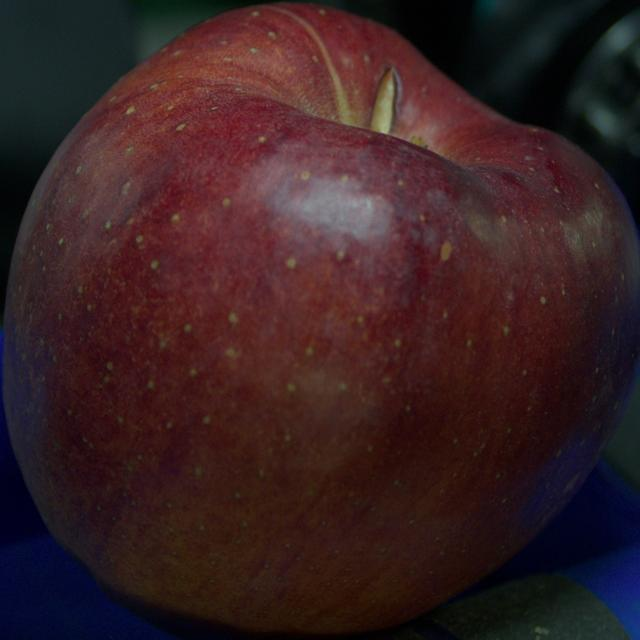apple: (2, 4, 639, 639)
scratch: (371, 69, 396, 133)
